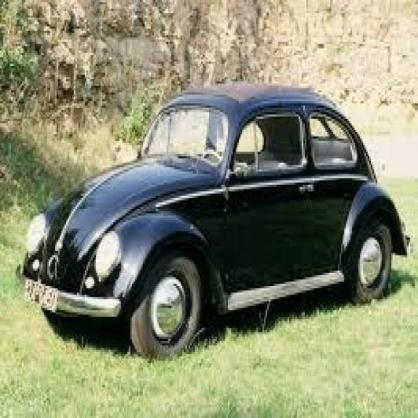car: (17, 87, 411, 361)
